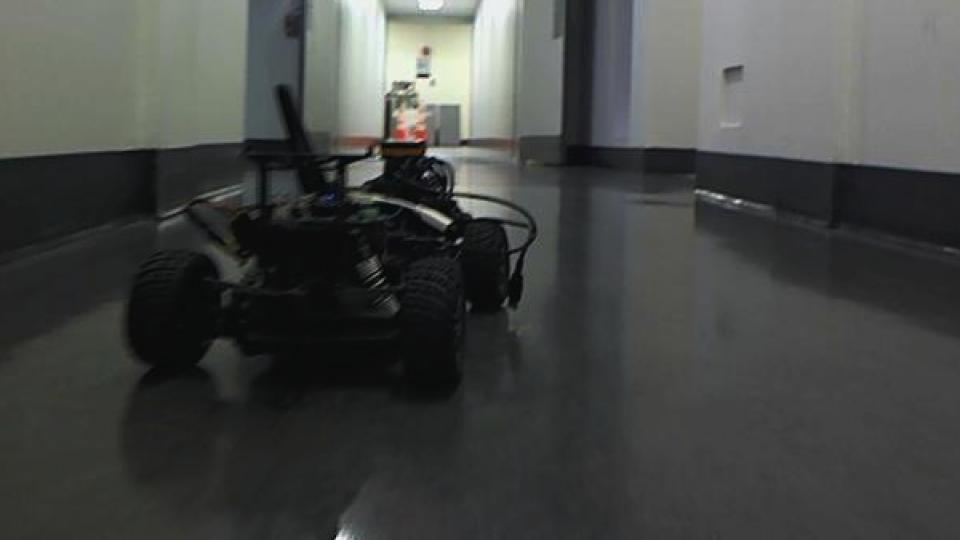car: (123, 82, 541, 394)
